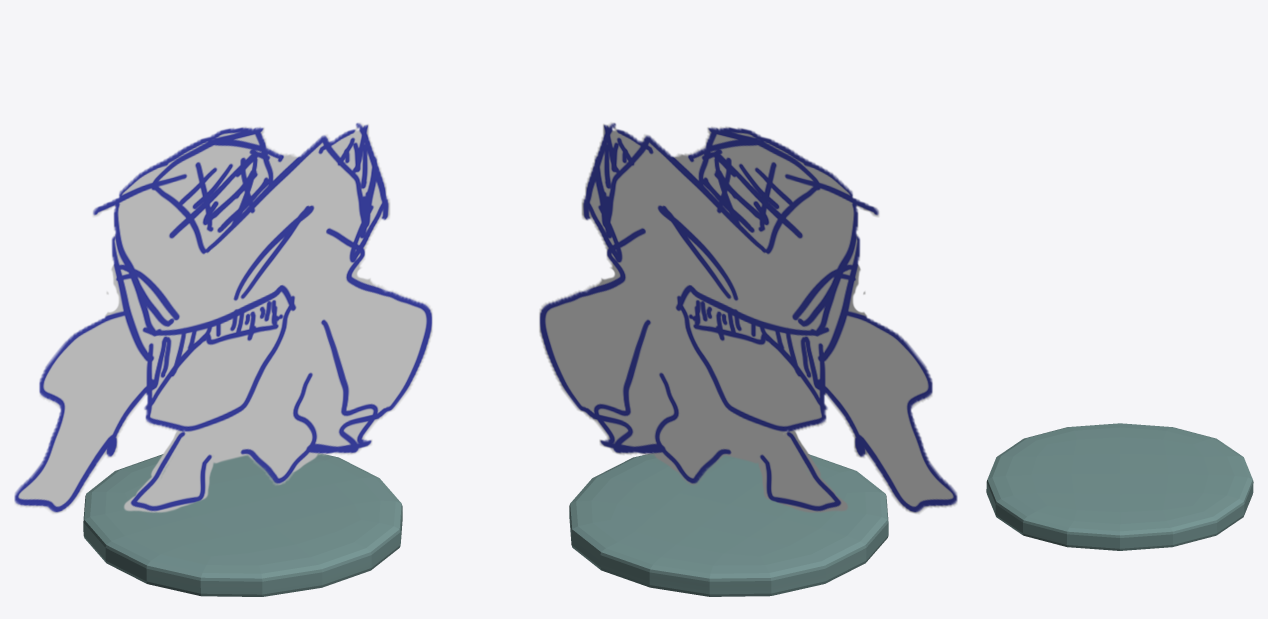
File: enemy.glb
The picture shows the model from 3 angles, left to right: view 1: azimuth 30°, elevation 25°; view 2: azimuth 150°, elevation 25°; view 3: azimuth 270°, elevation 25°; orthographic projection. The views are drawn at different scales.
Parts seen in each view (by area): view 1: enemy, Plane; view 2: enemy, Plane; view 3: Plane.
Boxes of the visible parts, <box> form: enemy: <box>14,122,432,513</box>; Plane: <box>83,453,402,596</box>; enemy: <box>539,122,957,513</box>; Plane: <box>569,453,888,596</box>; Plane: <box>986,423,1253,550</box>.
Size of the model in its own units: 1 by 1 by 0.6006.
Materials: 2 (1 with a texture image).
